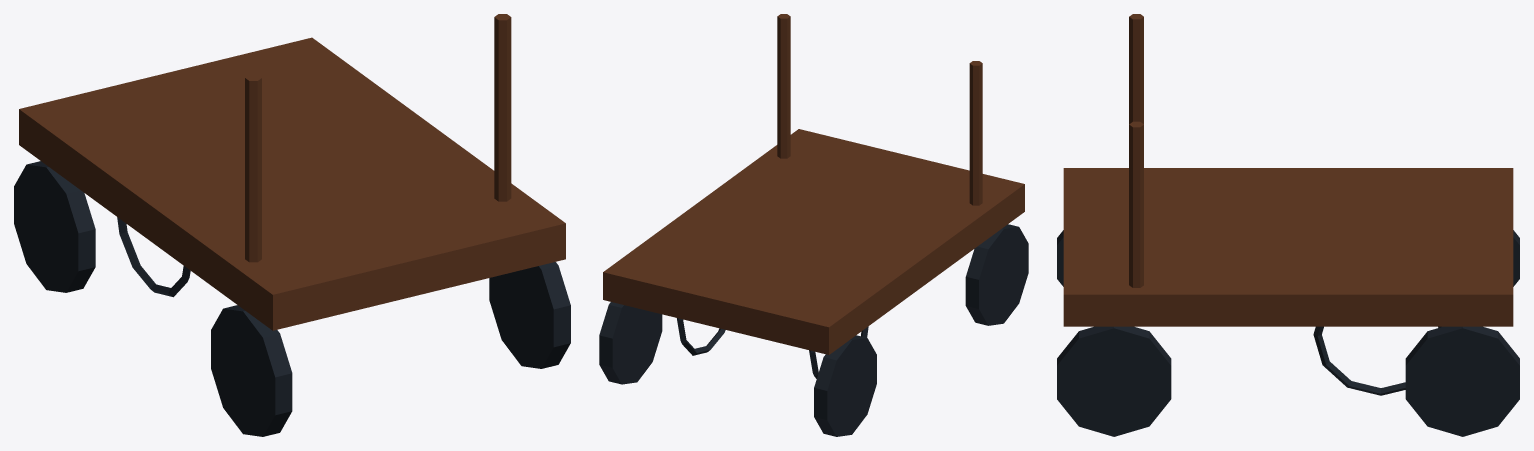
Rendered from haycart.glb.
3 views of the same model, side by side, from view 1: azimuth 30°, elevation 25°; view 2: azimuth 150°, elevation 25°; view 3: azimuth 270°, elevation 25° (orthographic). The views are drawn at different scales.
Visible parts, largest first — view 1: body, wheel_front_left, wheel_rear_left, wheel_front_right, wheel_left; view 2: body, wheel_front_left, wheel_rear_left, wheel_rear_right, wheel_right; view 3: body, wheel_front_right, wheel_rear_right, wheel_right.
Part boxes in pixels (<box>): body: <box>19,14,565,330</box>; wheel_front_left: <box>211,305,292,436</box>; wheel_rear_left: <box>14,161,95,292</box>; wheel_front_right: <box>489,262,570,368</box>; wheel_left: <box>117,217,190,297</box>; body: <box>603,14,1024,354</box>; wheel_front_left: <box>965,224,1028,325</box>; wheel_rear_left: <box>814,335,876,436</box>; wheel_rear_right: <box>599,302,662,384</box>; wheel_right: <box>677,318,725,355</box>; body: <box>1063,14,1513,326</box>; wheel_front_right: <box>1057,326,1171,436</box>; wheel_rear_right: <box>1405,326,1519,436</box>; wheel_right: <box>1313,326,1441,395</box>.
Bounding box in the file's own units: 1.29 × 1.42 × 1.97.
Materials: 1 (1 with a texture image).
